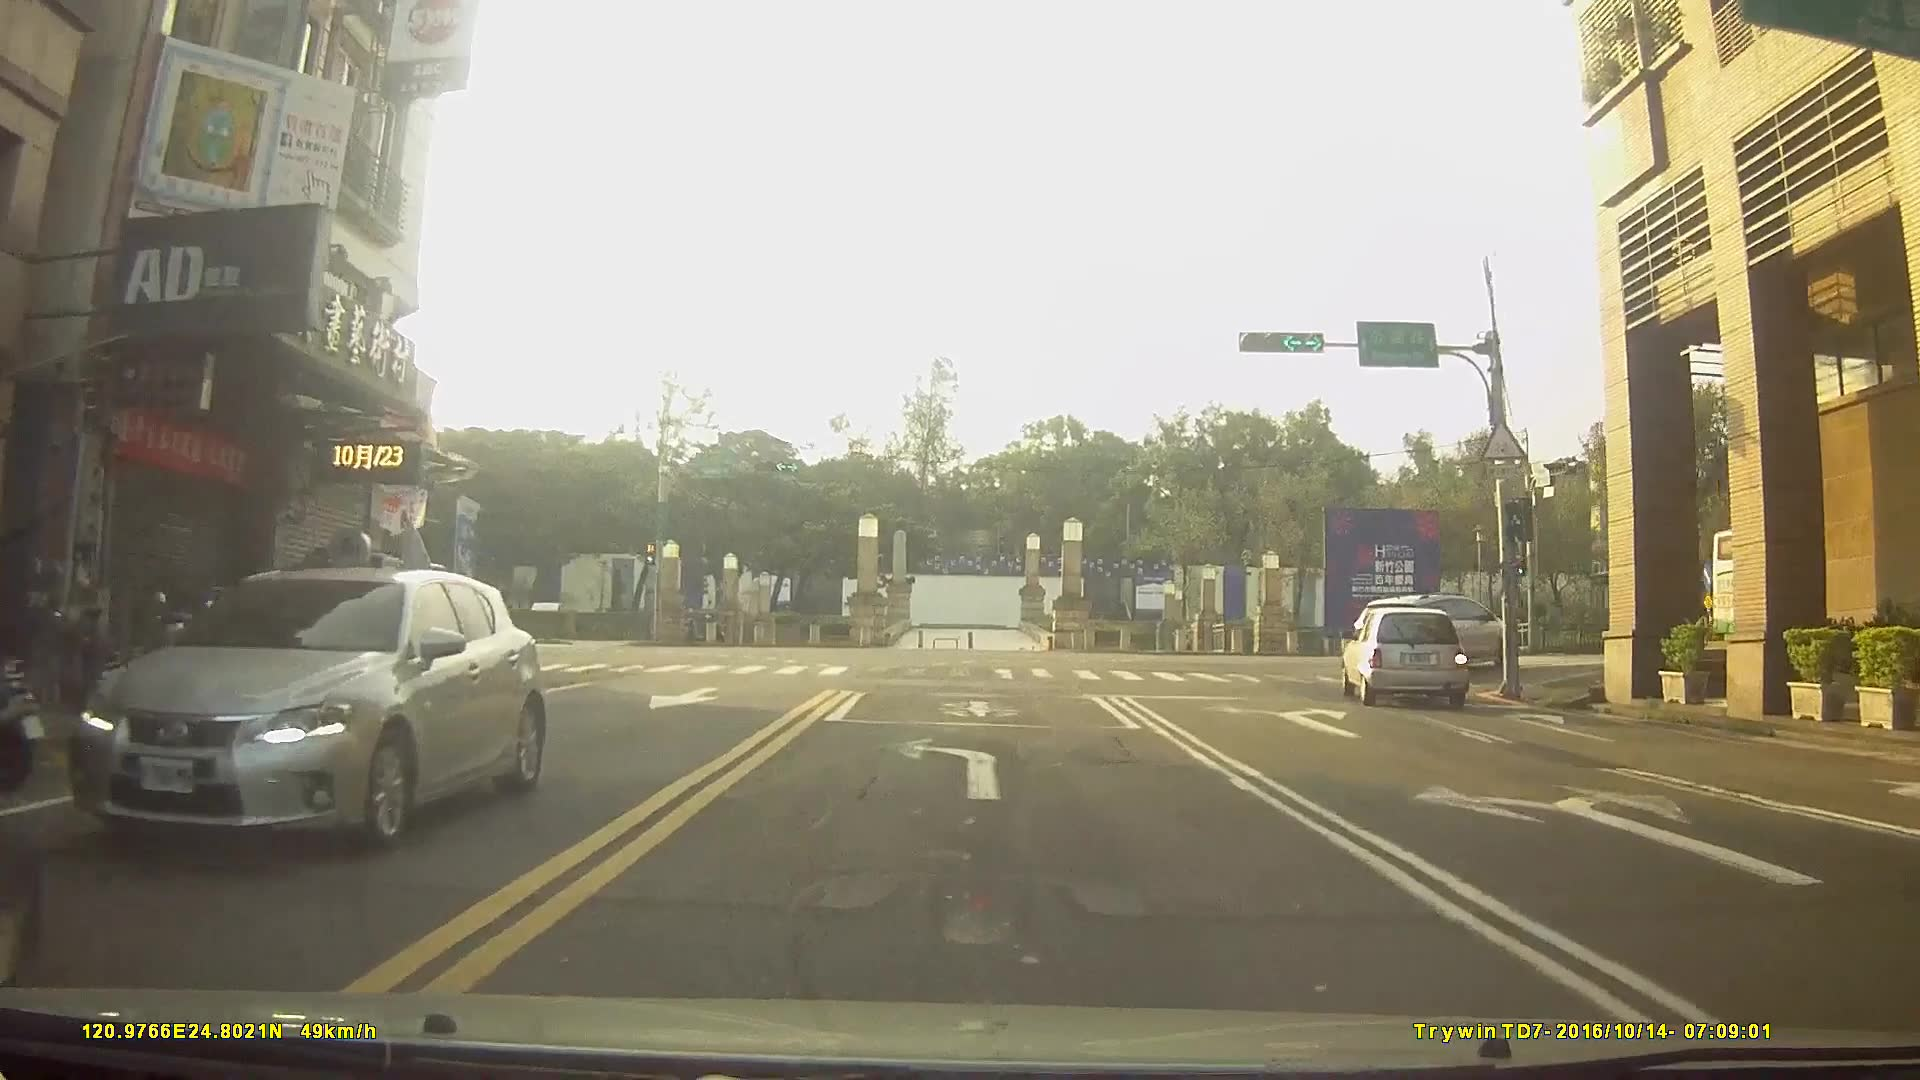vehicle: (65, 564, 545, 855), (1340, 607, 1469, 708), (1354, 592, 1516, 673)
